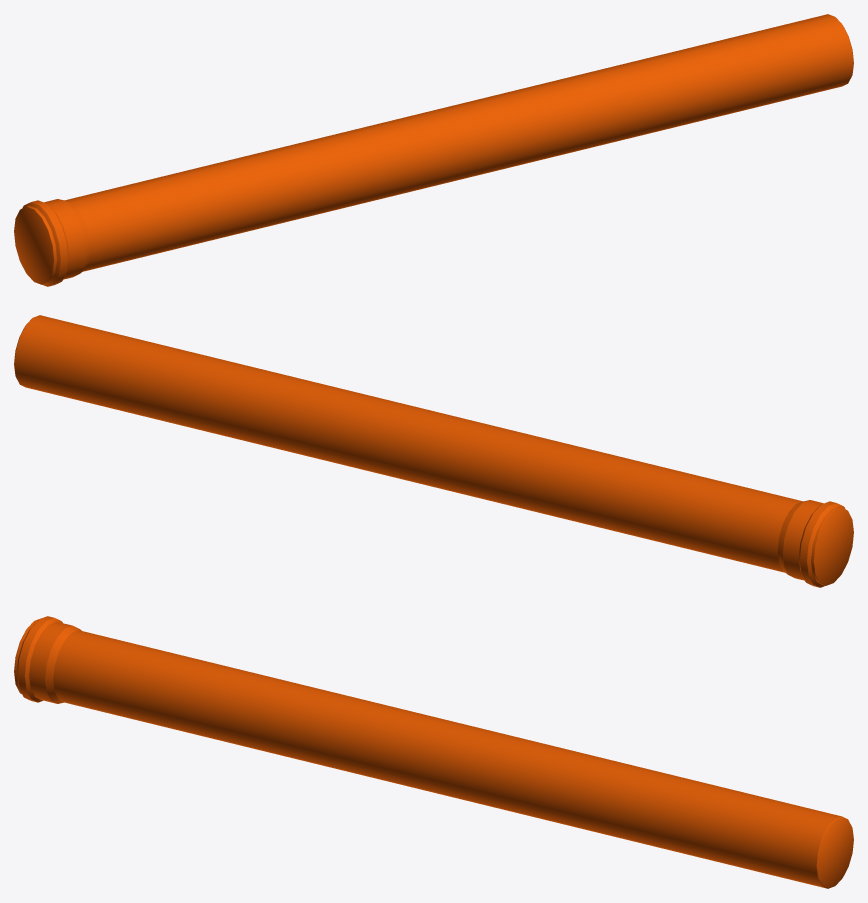
Rendered from PVC_D160_L200.FBX.
3 views of the same model, one above another, from view 1: azimuth 30°, elevation 25°; view 2: azimuth 150°, elevation 25°; view 3: azimuth 330°, elevation 25° (orthographic).
Visible parts, largest first — view 1: PVC_D160_L200; view 2: PVC_D160_L200; view 3: PVC_D160_L200.
Boxes of the visible parts, x1=… form: PVC_D160_L200: x1=14, y1=14, x2=853, y2=286; PVC_D160_L200: x1=14, y1=315, x2=853, y2=587; PVC_D160_L200: x1=14, y1=616, x2=853, y2=888.
Size of the model in its own units: 200 by 18.74 by 18.74.
